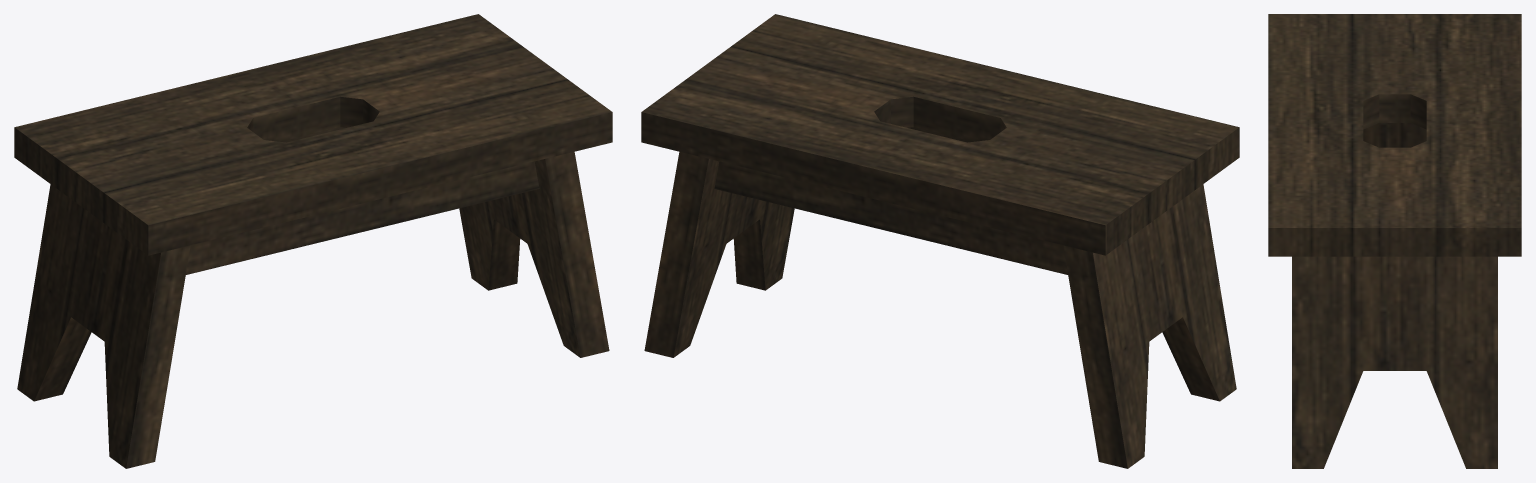
File: stool_mx_1.fbx
3 renders of one model, left to right at view 1: azimuth 30°, elevation 25°; view 2: azimuth 150°, elevation 25°; view 3: azimuth 270°, elevation 25°, orthographic. The views are drawn at different scales.
Visible parts, largest first — view 1: stool_mx_1; view 2: stool_mx_1; view 3: stool_mx_1.
Boxes of the visible parts, left/top/right/bottom form: stool_mx_1: left=14, top=14, right=612, bottom=468; stool_mx_1: left=641, top=14, right=1239, bottom=468; stool_mx_1: left=1268, top=14, right=1521, bottom=468.
Bounding box in the file's own units: 0.6665 × 0.32 × 0.33.
